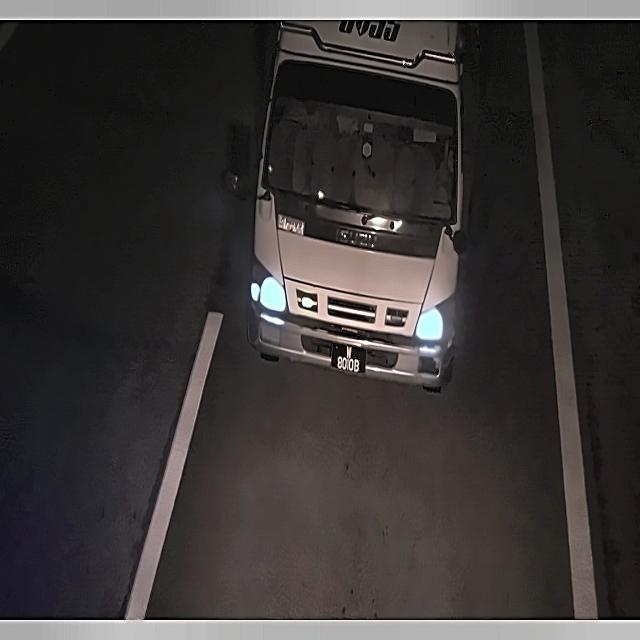car: (326, 334, 371, 378)
